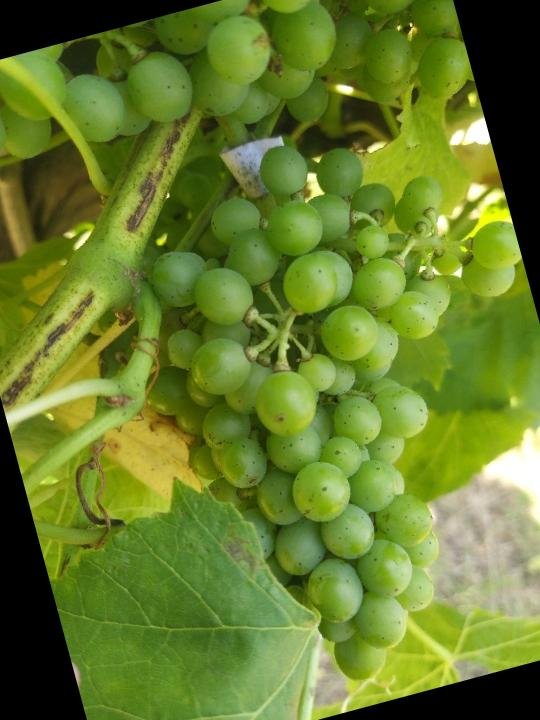grape: (92, 94, 540, 717)
